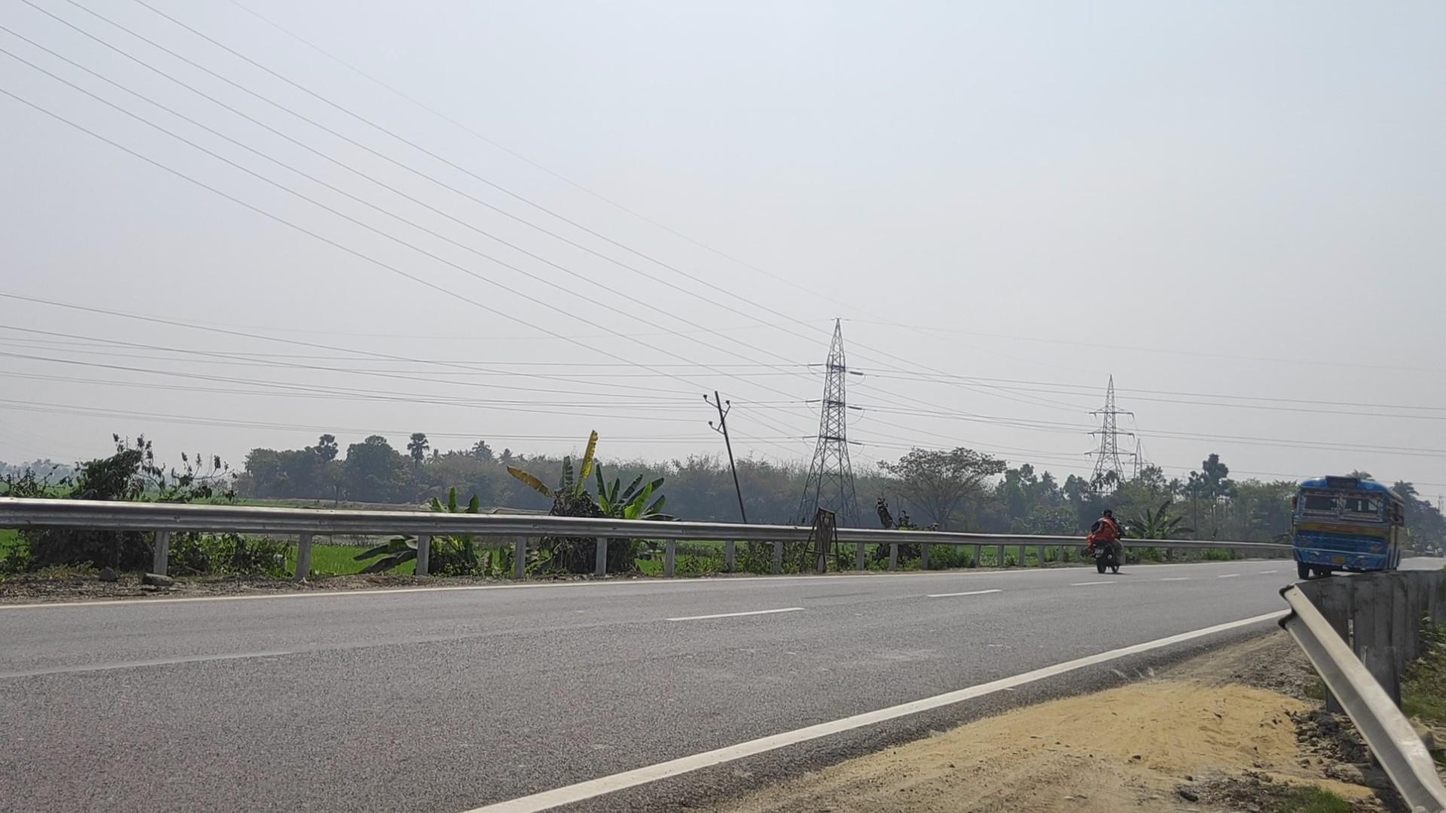Bus: (1290, 475, 1405, 580)
bike: (1089, 509, 1130, 574)
